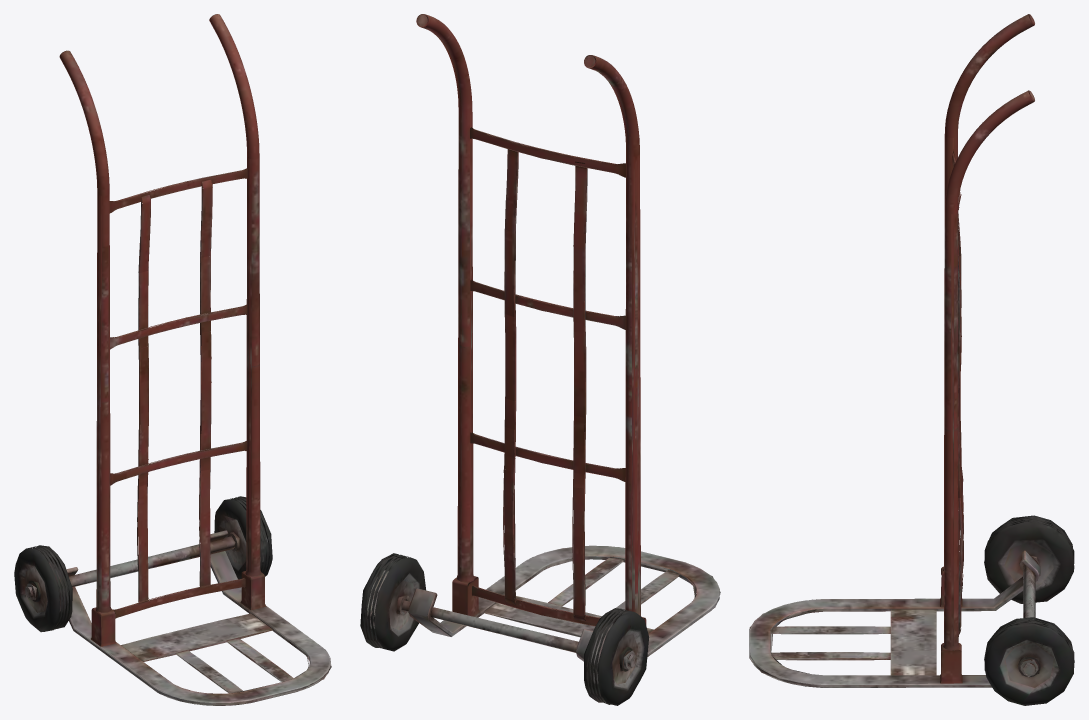
Rendered from hand_truck.glb.
3 views of the same model, side by side, from view 1: azimuth 30°, elevation 25°; view 2: azimuth 150°, elevation 25°; view 3: azimuth 270°, elevation 25° (orthographic). The views are drawn at different scales.
Parts seen in each view (by area): view 1: hand_truck; view 2: hand_truck; view 3: hand_truck.
Boxes of the visible parts, box(x1,y1,x2,y2) form: hand_truck: box(14, 14, 331, 705); hand_truck: box(360, 14, 720, 705); hand_truck: box(749, 14, 1074, 705).
Size of the model in its own units: 0.5933 by 1.4 by 0.6927.
Materials: 1 (1 with a texture image).
